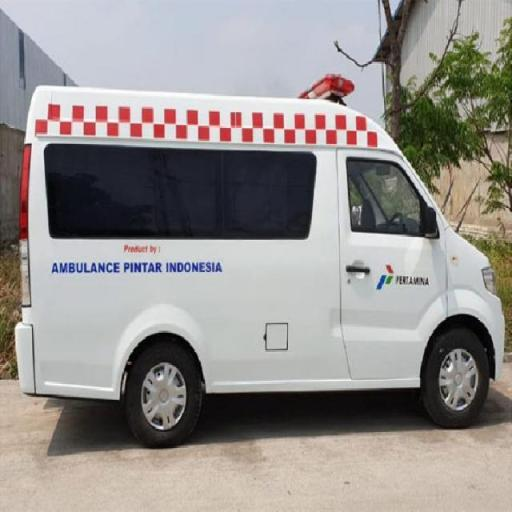Police car: (10, 50, 510, 452)
